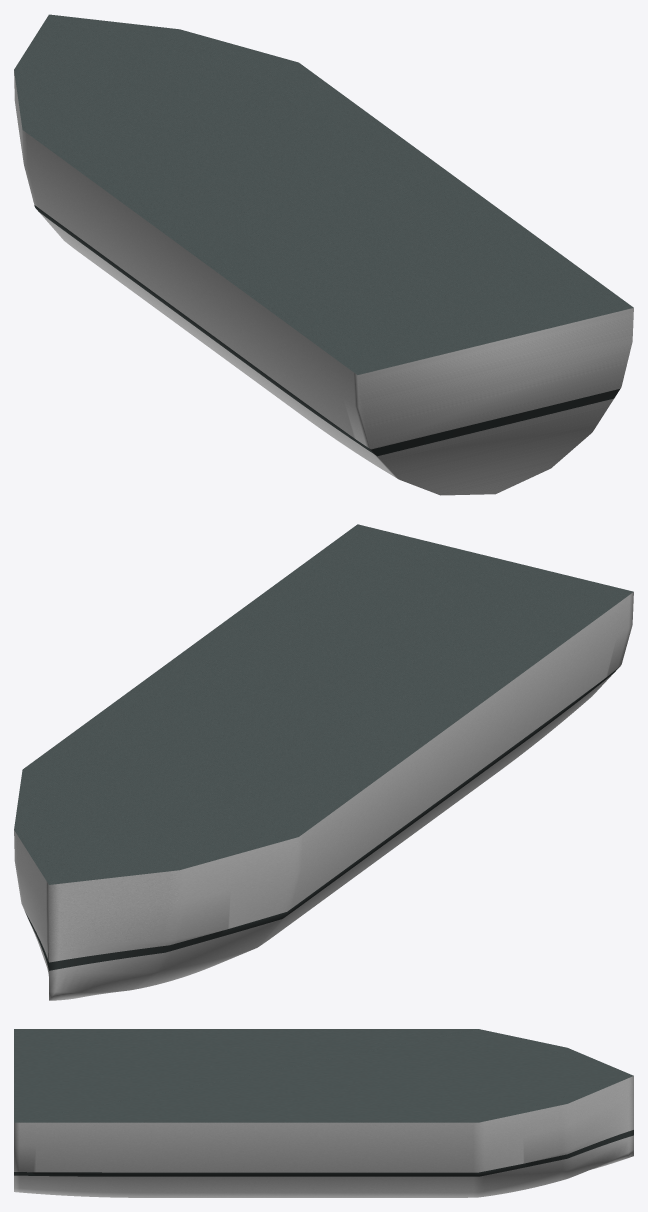
The model's file is trawler_hull_14m.glb.
3 views of the same model, one above another, from view 1: azimuth 30°, elevation 25°; view 2: azimuth 150°, elevation 25°; view 3: azimuth 270°, elevation 25° (orthographic). The views are drawn at different scales.
Visible parts, largest first — view 1: Working deck, Trawler hull - formed steel shell; view 2: Working deck, Trawler hull - formed steel shell; view 3: Working deck, Trawler hull - formed steel shell.
Boxes of the visible parts, bbox=[...] form: Working deck: bbox=[14, 14, 633, 374]; Trawler hull - formed steel shell: bbox=[14, 71, 633, 495]; Working deck: bbox=[14, 524, 633, 884]; Trawler hull - formed steel shell: bbox=[14, 592, 633, 1000]; Working deck: bbox=[14, 1029, 633, 1122]; Trawler hull - formed steel shell: bbox=[14, 1076, 633, 1197].
Size of the model in its own units: 5 by 2.8 by 14.
Materials: 4 (3 with a texture image).
